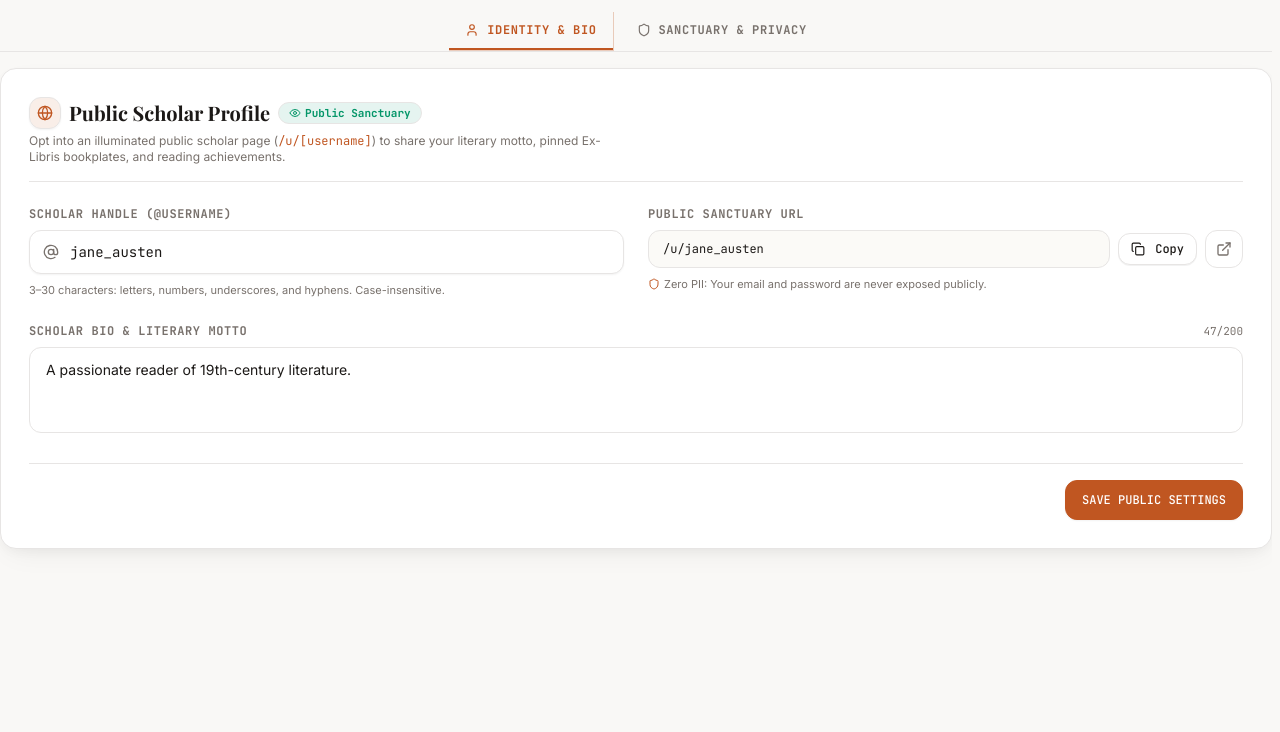
Test case: AccountPublicProfileSection › displays error message if update fails
Click the button "Save Public Settings": (1154, 500) [1065,480,1243,520]
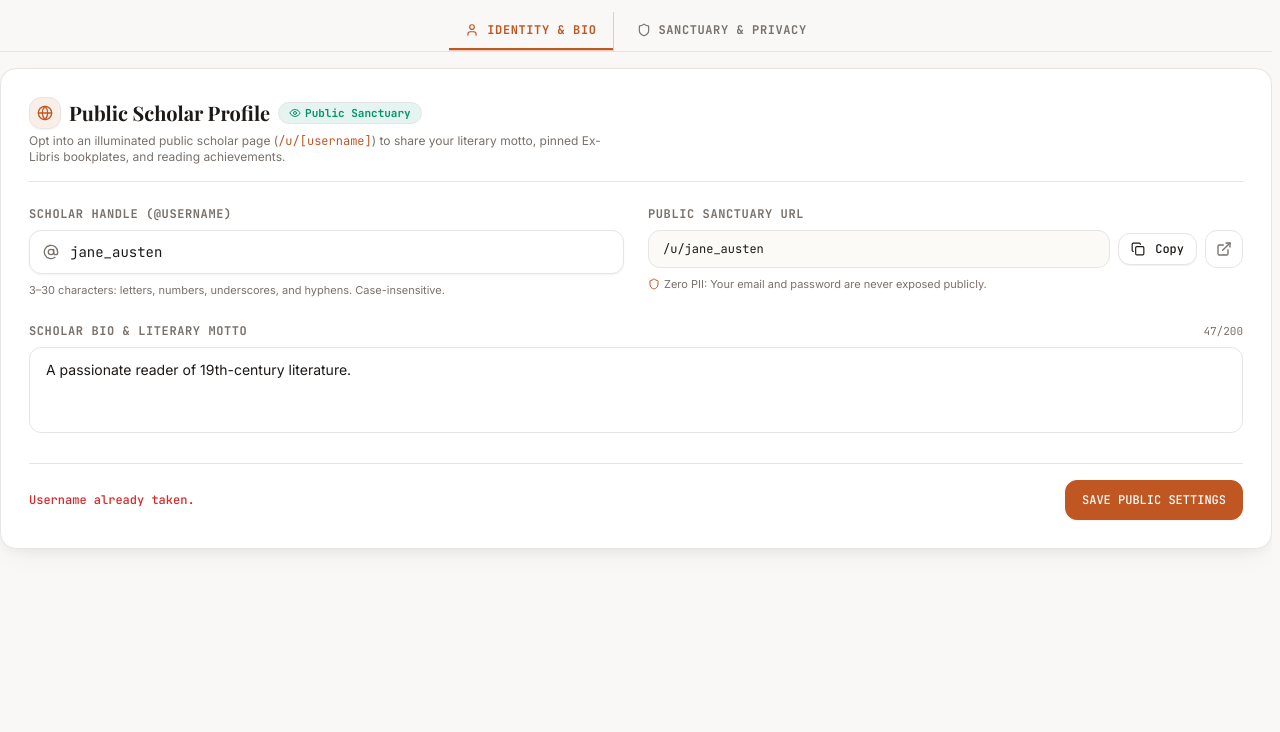
Expected: the text "Username already taken." is shown, [29,492,195,508]
